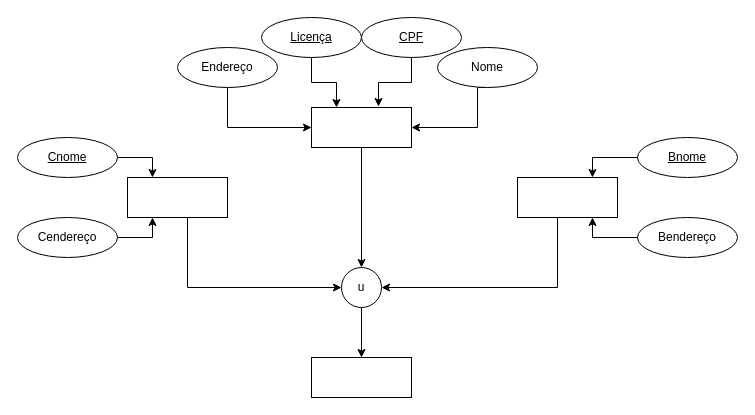
This 755x415 diagram has some shape labels left out. The box of each missing label's shape, as (x1, y1, x2, y2) in pixels:
Banco: (516, 176, 618, 218)
Companhia: (126, 176, 228, 218)
Dono: (310, 356, 412, 398)
Pessoa: (310, 106, 412, 148)
